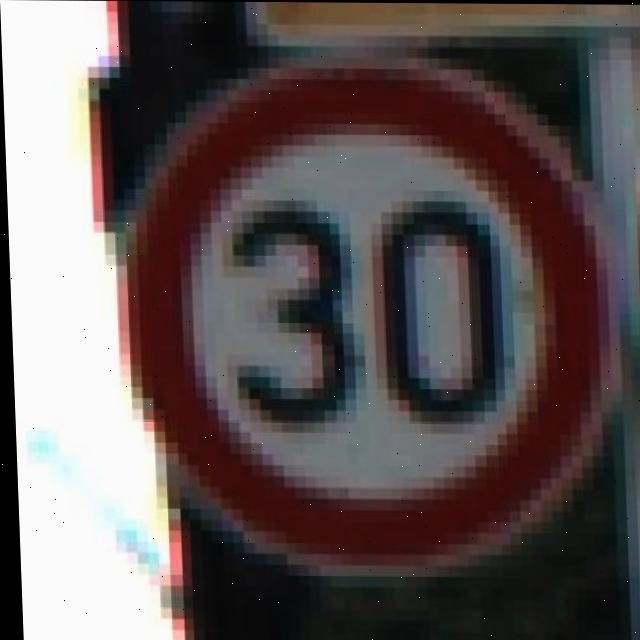Speed limit 30: (106, 56, 616, 578)
